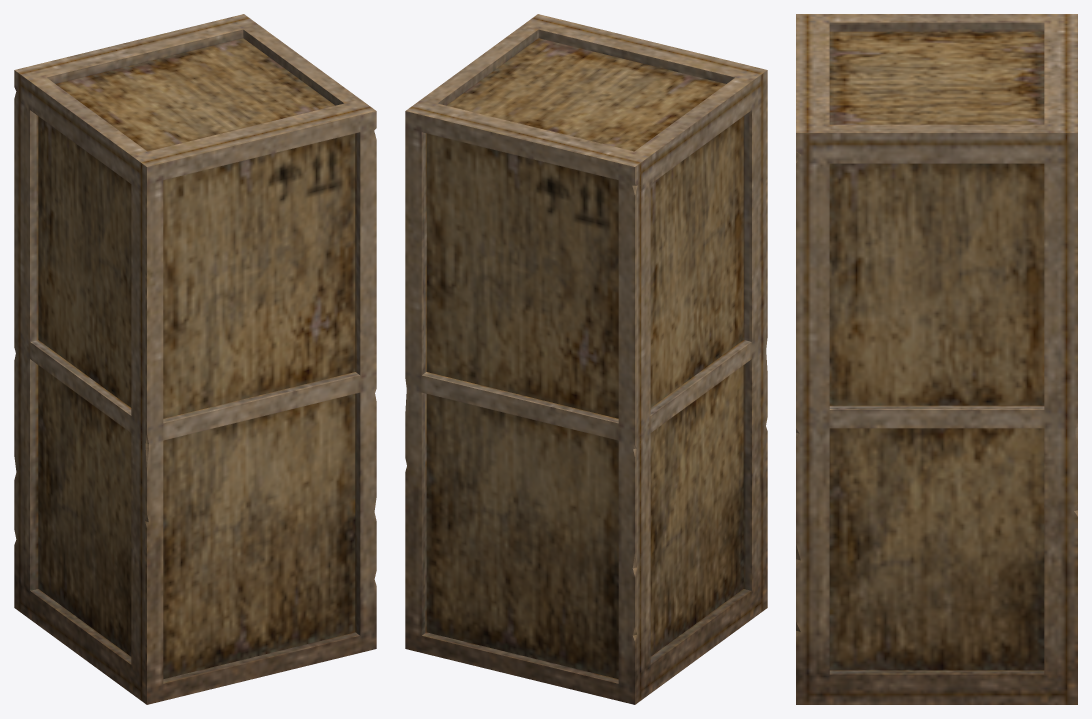
Rendered from SM_Crate03.fbx.
3 renders of one model, left to right at view 1: azimuth 30°, elevation 25°; view 2: azimuth 150°, elevation 25°; view 3: azimuth 270°, elevation 25°, orthographic. The views are drawn at different scales.
Visible parts, largest first — view 1: SM_Crate03.mo; view 2: SM_Crate03.mo; view 3: SM_Crate03.mo.
Boxes of the visible parts, left/top/right/bottom form: SM_Crate03.mo: left=14, top=14, right=376, bottom=704; SM_Crate03.mo: left=405, top=14, right=767, bottom=704; SM_Crate03.mo: left=796, top=14, right=1077, bottom=704.
Size of the model in its own units: 84 by 188 by 84.
